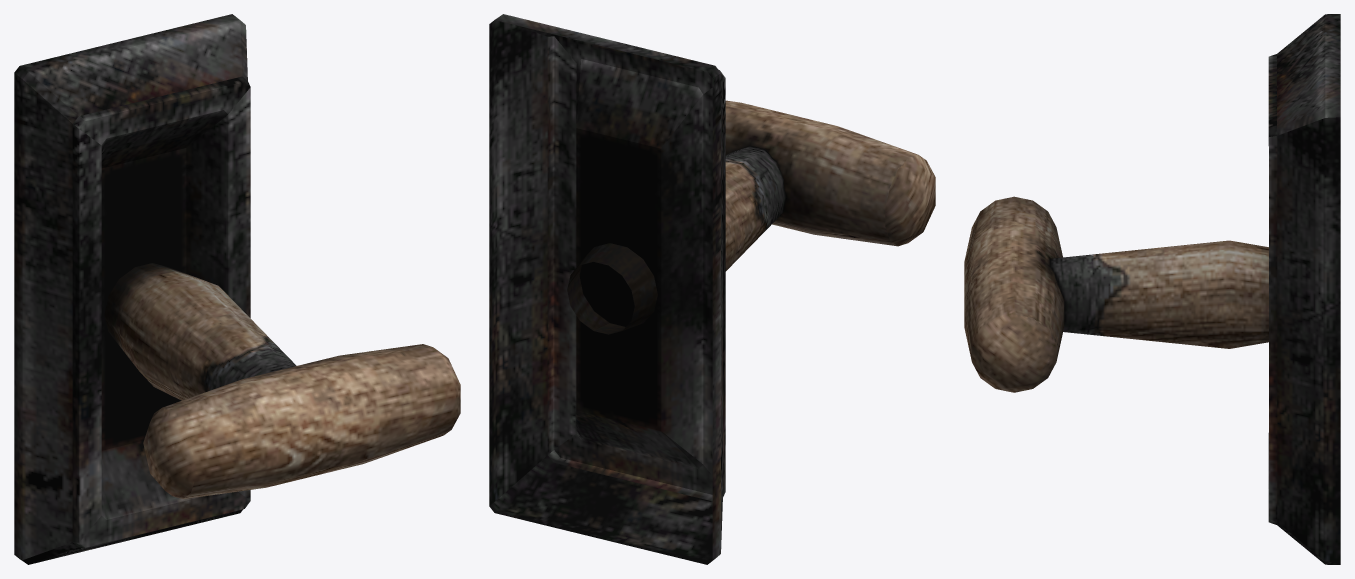
Rendered from lever_small01.dae.
The picture shows the model from 3 angles, left to right: view 1: azimuth 30°, elevation 25°; view 2: azimuth 150°, elevation 25°; view 3: azimuth 270°, elevation 25°; orthographic projection. The views are drawn at different scales.
Parts seen in each view (by area): view 1: lever_small01_box_mesh, lever_small01_handle_mesh; view 2: lever_small01_box_mesh, lever_small01_handle_mesh; view 3: lever_small01_box_mesh, lever_small01_handle_mesh.
Part boxes in pixels (box(x1,y1,x2,y2)): lever_small01_box_mesh: box(14, 14, 250, 564); lever_small01_handle_mesh: box(104, 263, 460, 499); lever_small01_box_mesh: box(489, 14, 725, 564); lever_small01_handle_mesh: box(567, 100, 935, 334); lever_small01_box_mesh: box(1268, 14, 1340, 564); lever_small01_handle_mesh: box(964, 196, 1268, 392).
Size of the model in its own units: 0.2688 by 0.4289 by 0.3217.
